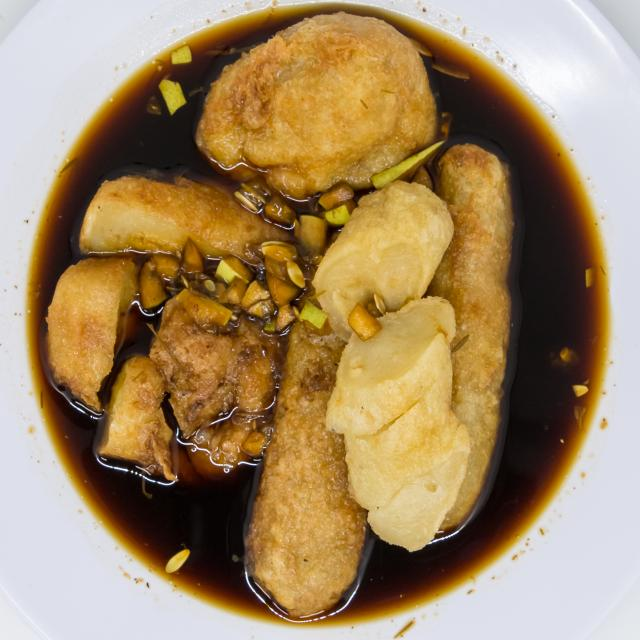Pempek-Palembang: (40, 5, 524, 624)
